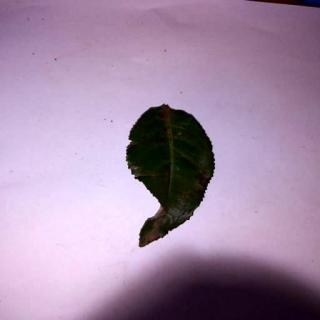Bird Eye Spot: (127, 104, 217, 249)
